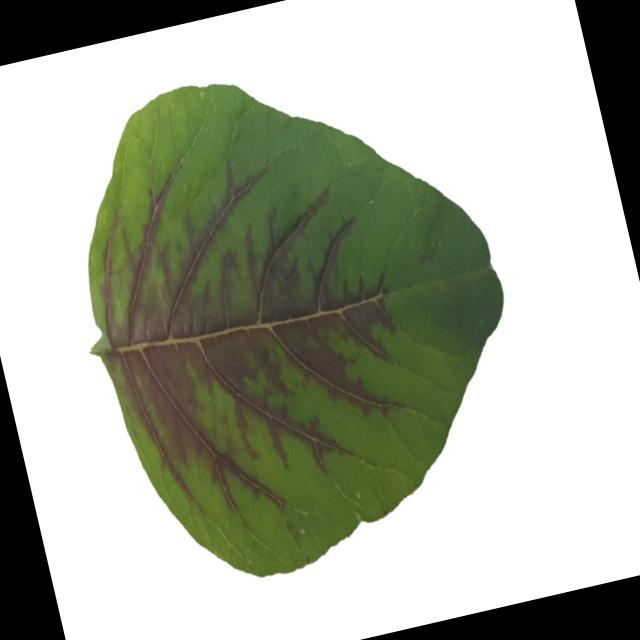Medicinal-Arive Dantu: (37, 22, 554, 610)
